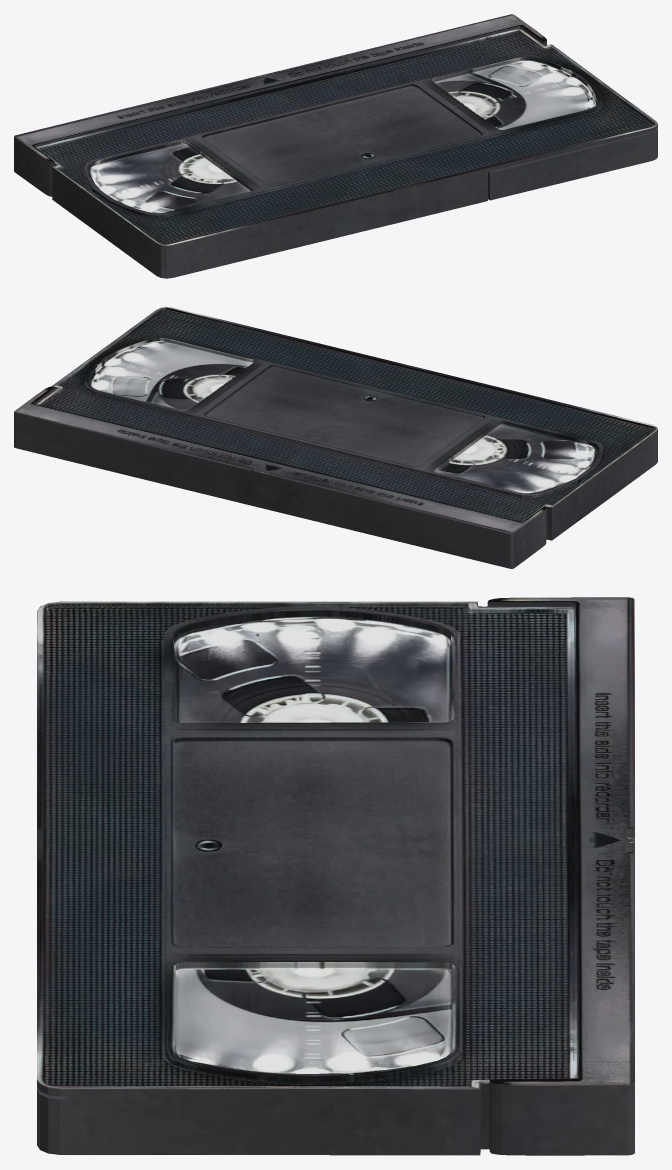
File: vhs-tape-model.glb
The picture shows the model from 3 angles, top to bottom: view 1: azimuth 30°, elevation 25°; view 2: azimuth 150°, elevation 25°; view 3: azimuth 270°, elevation 25°; orthographic projection. The views are drawn at different scales.
Visible parts, largest first — view 1: VHSTape_Plane.002; view 2: VHSTape_Plane.002; view 3: VHSTape_Plane.002.
Part boxes in pixels (x1,y1,x2,y2): VHSTape_Plane.002: [14, 14, 657, 278]; VHSTape_Plane.002: [14, 307, 657, 568]; VHSTape_Plane.002: [37, 597, 634, 1155].
Bounding box in the file's own units: 0.3262 × 0.0219 × 0.1689.
Materials: 1 (1 with a texture image).
